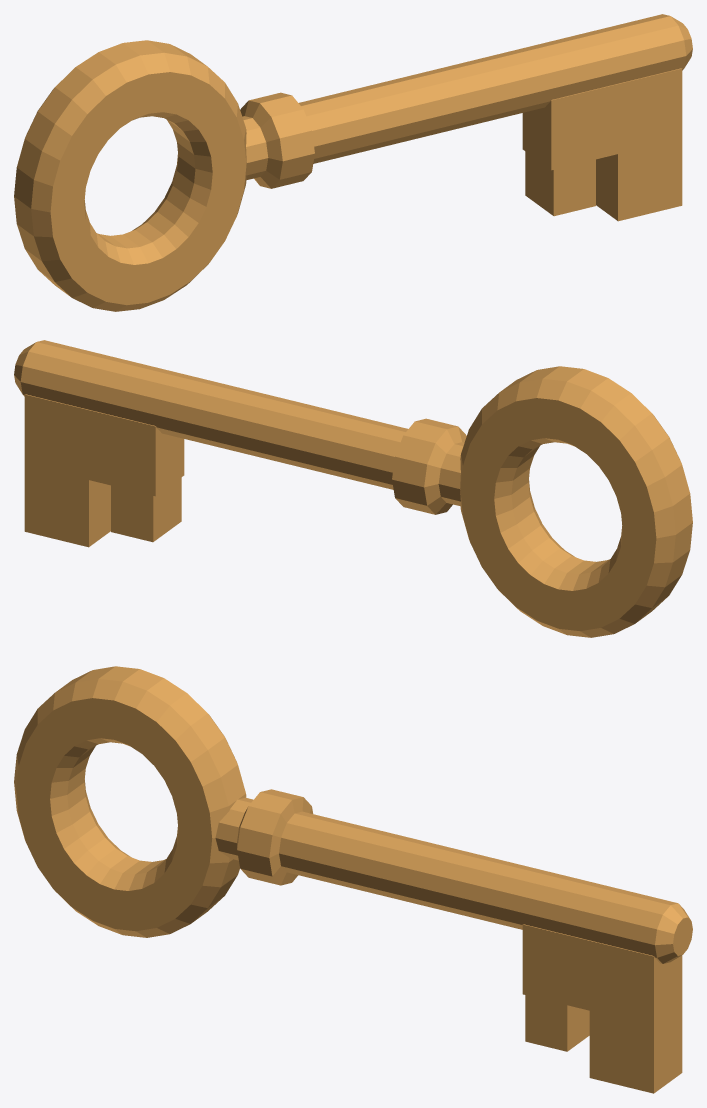
Rendered from cobertizo.glb.
3 renders of one model, top to bottom at view 1: azimuth 30°, elevation 25°; view 2: azimuth 150°, elevation 25°; view 3: azimuth 330°, elevation 25°, orthographic.
Bounding box in the file's own units: 0.267 × 0.107 × 0.032.
